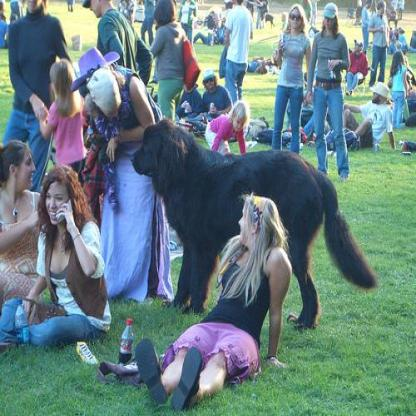Newfoundland: (129, 116, 377, 332)
